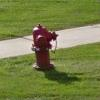Hydrant: (25, 16, 62, 76)
